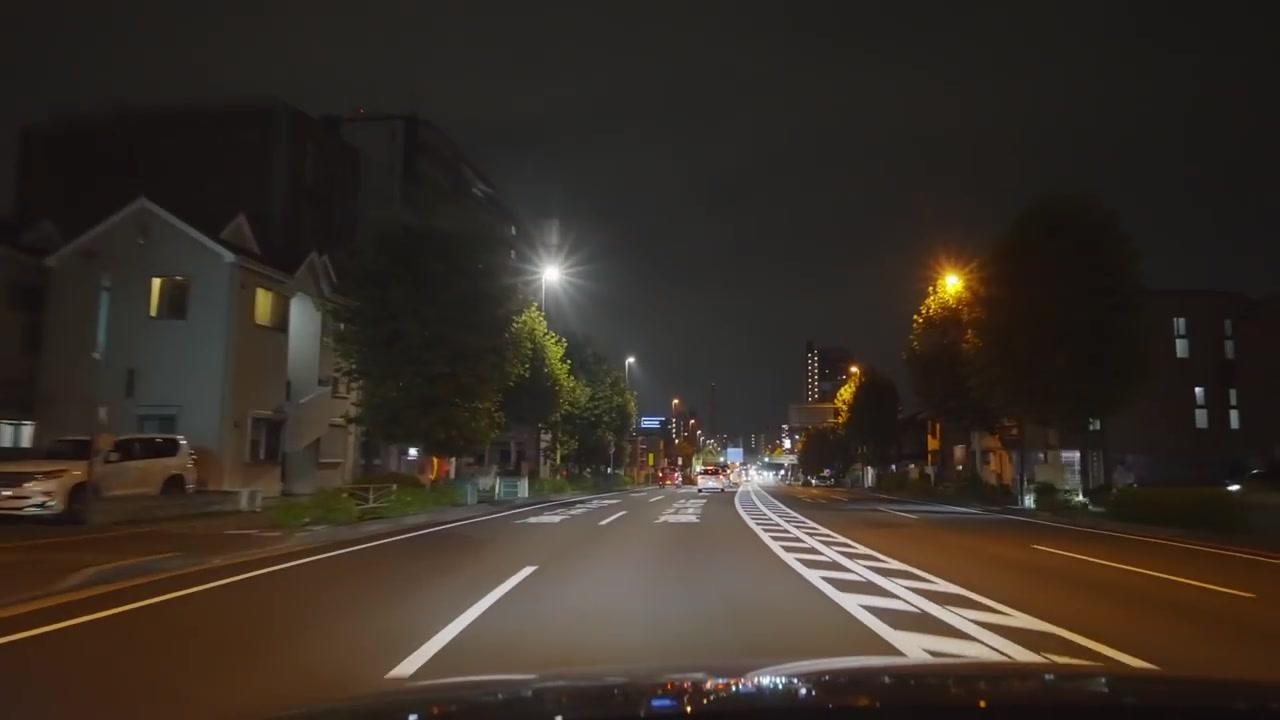car: (0, 433, 199, 520), (696, 477, 725, 493)
truck: (0, 433, 203, 522)
